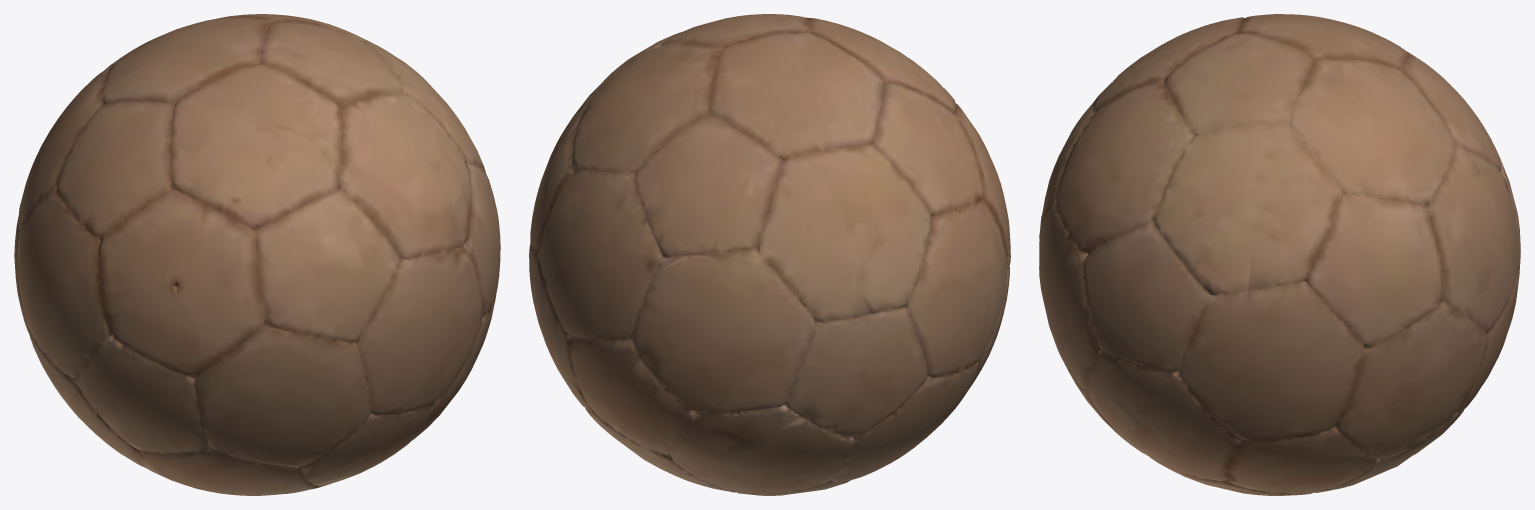
Rendered from football-leather.glb.
3 renders of one model, left to right at view 1: azimuth 30°, elevation 25°; view 2: azimuth 150°, elevation 25°; view 3: azimuth 270°, elevation 25°, orthographic.
Parts seen in each view (by area): view 1: dirty_football; view 2: dirty_football; view 3: dirty_football.
Part boxes in pixels (x1,y1,x2,y2): dirty_football: [14, 14, 500, 495]; dirty_football: [529, 14, 1010, 495]; dirty_football: [1039, 14, 1520, 495].
Size of the model in its own units: 0.2208 by 0.2201 by 0.2196.
Materials: 1 (1 with a texture image).
